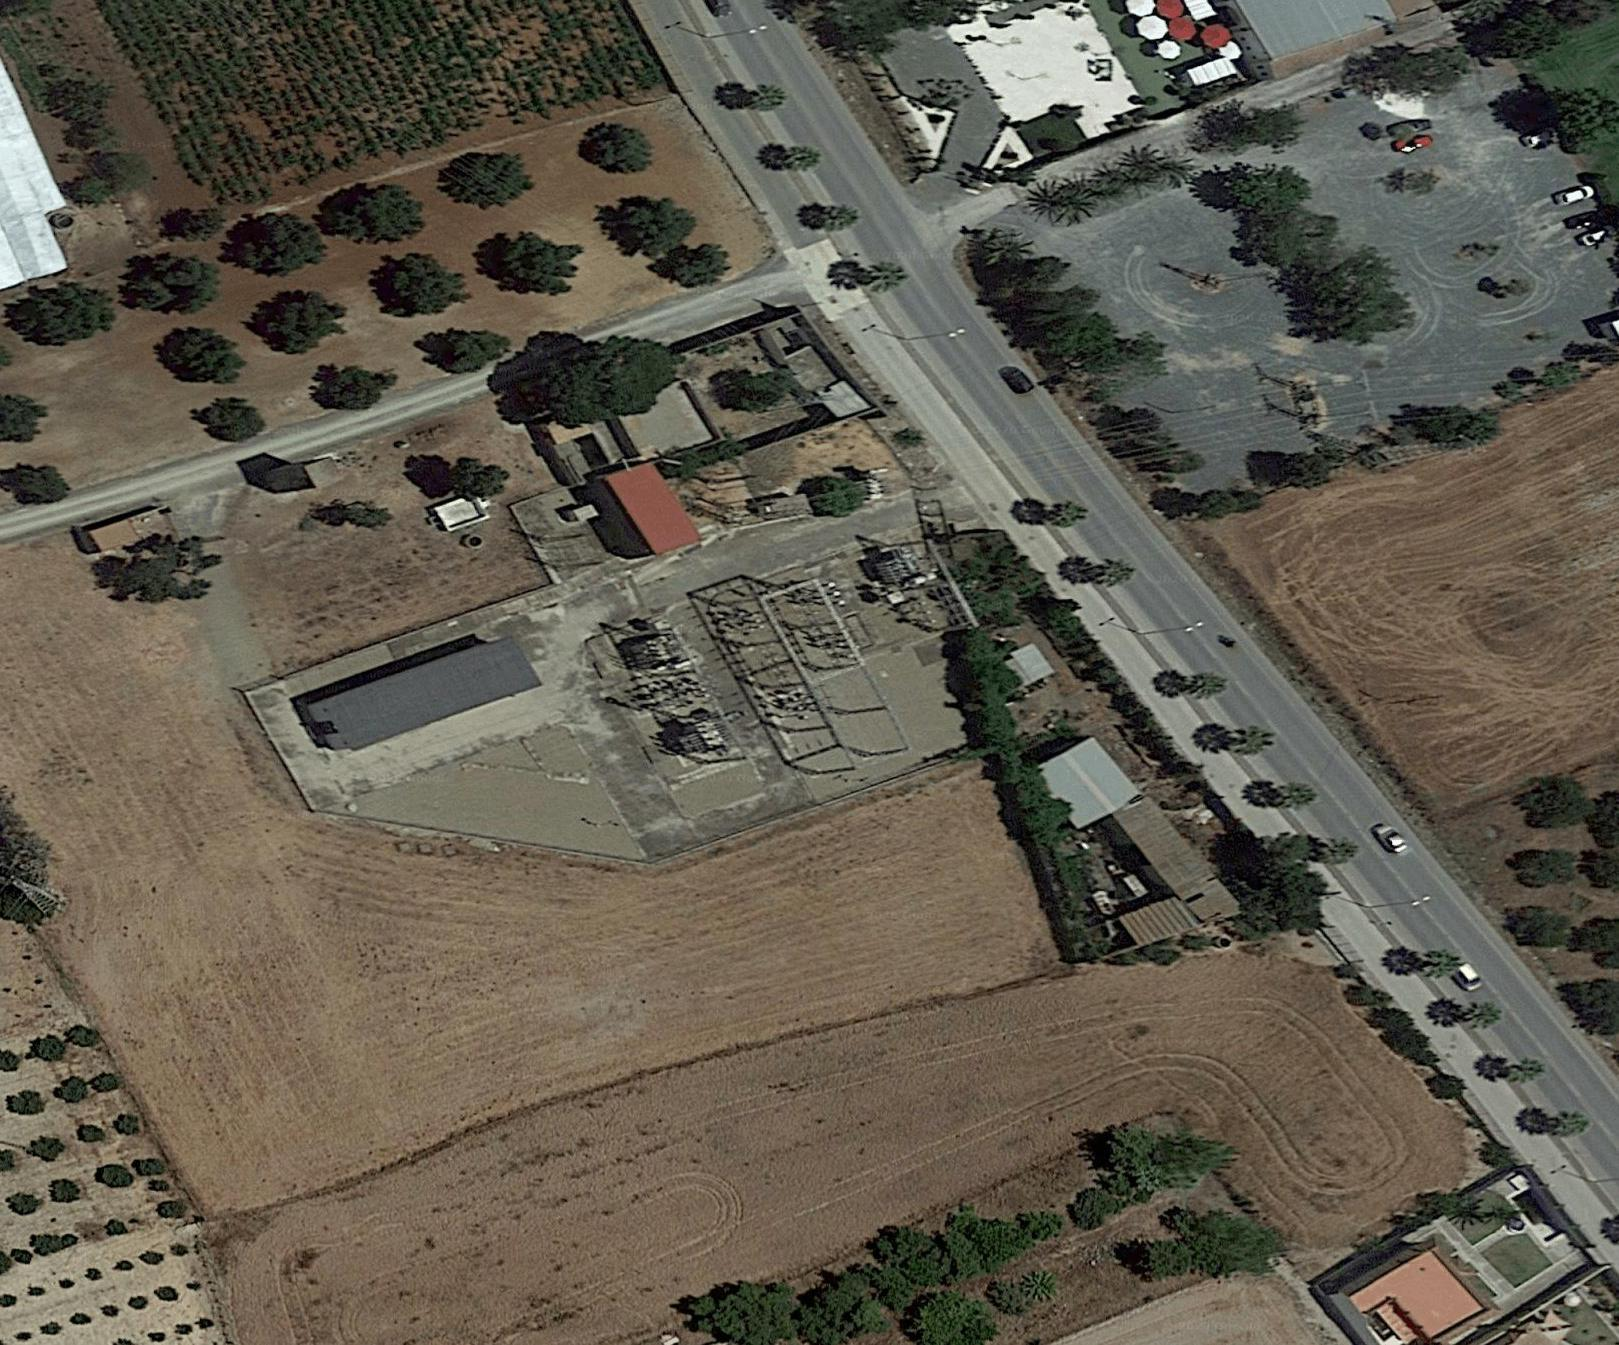substation: (584, 529, 963, 784)
